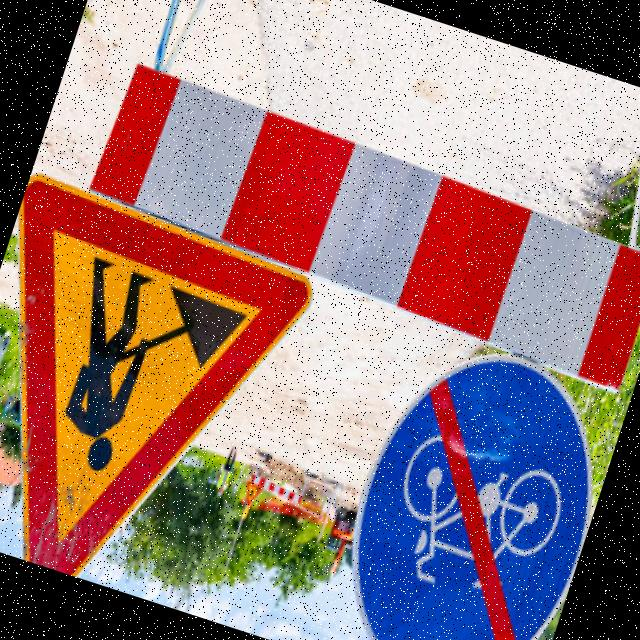road_work: (0, 174, 319, 619)
